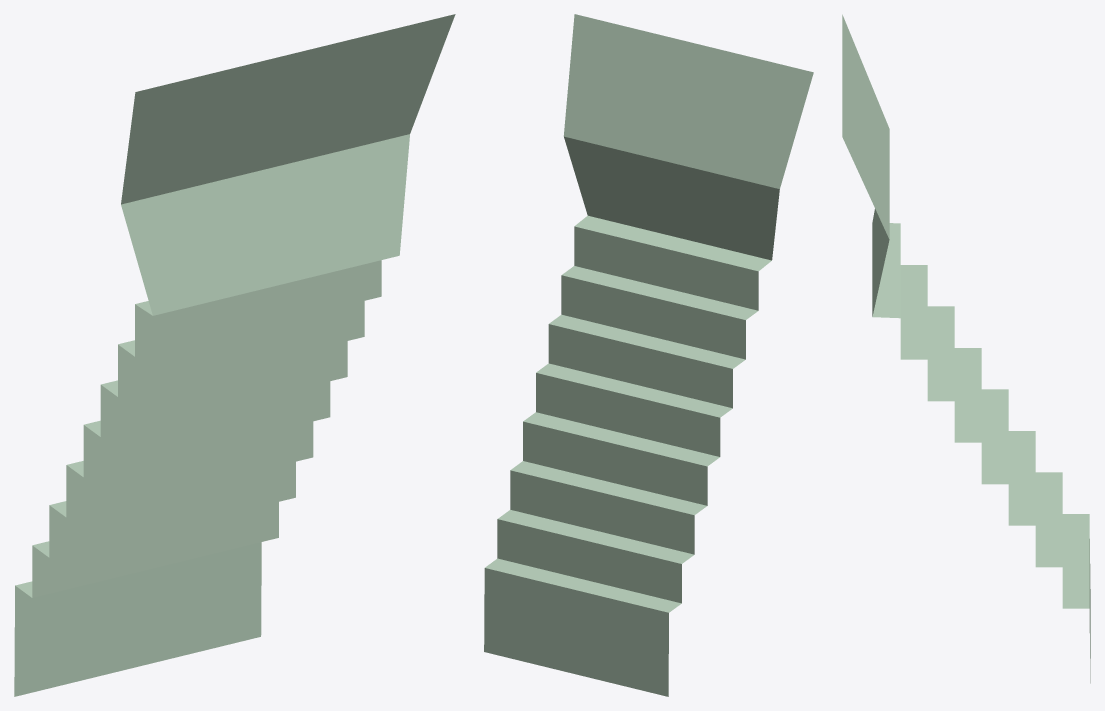
3 renders of one model, left to right at view 1: azimuth 30°, elevation 25°; view 2: azimuth 150°, elevation 25°; view 3: azimuth 270°, elevation 25°, orthographic. The views are drawn at different scales.
Parts seen in each view (by area): view 1: Object97; view 2: Object97; view 3: Object97.
Part boxes in pixels (x1,y1,x2,y2): Object97: [14, 14, 455, 696]; Object97: [484, 14, 813, 696]; Object97: [842, 14, 1090, 683].
Bounding box in the file's own units: 14696 × 31980 × 12539.
